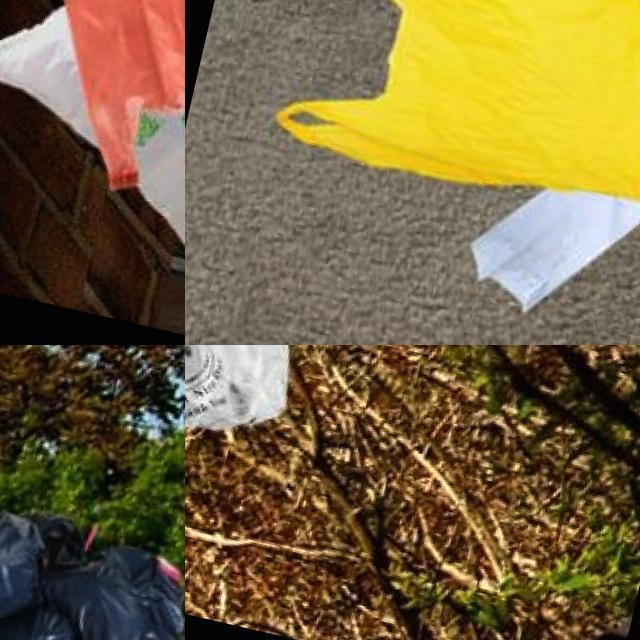waste: (287, 0, 640, 229), (0, 0, 185, 286), (17, 0, 185, 186), (465, 156, 640, 334), (26, 530, 185, 640), (185, 345, 323, 449), (0, 480, 62, 640)
